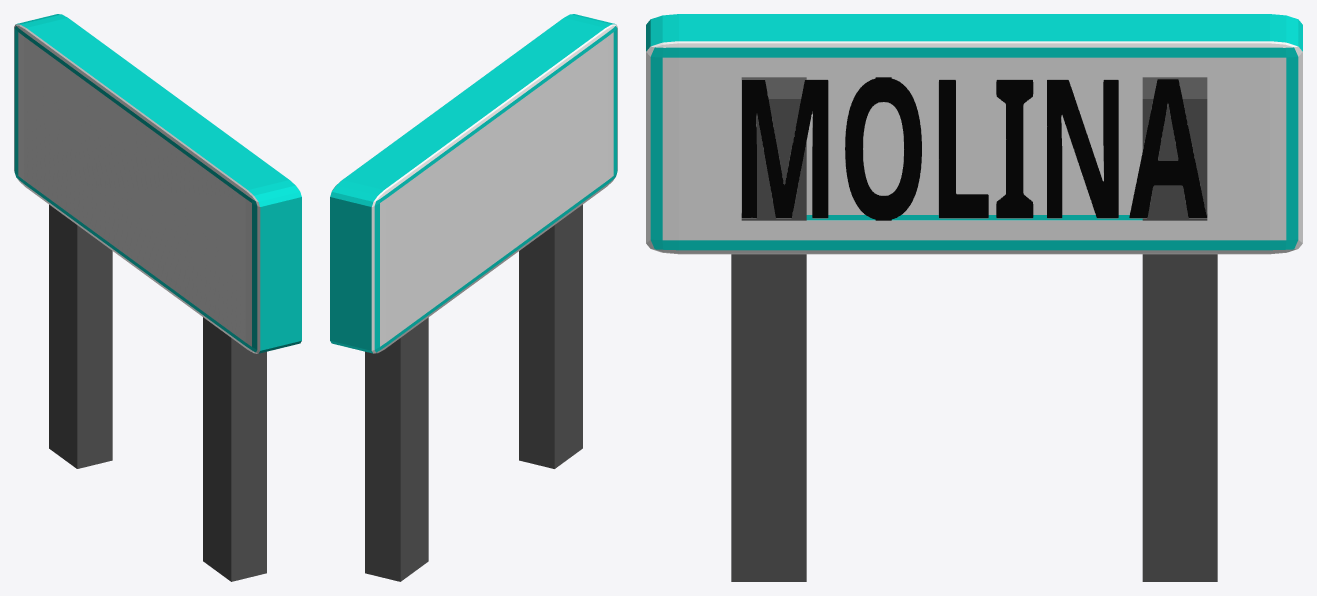
The model's file is CartelMolina.fbx.
The picture shows the model from 3 angles, left to right: view 1: azimuth 30°, elevation 25°; view 2: azimuth 150°, elevation 25°; view 3: azimuth 270°, elevation 25°; orthographic projection. The views are drawn at different scales.
Parts seen in each view (by area): view 1: Cube; view 2: Cube; view 3: Cube.
Part boxes in pixels (x1,y1,x2,y2): Cube: (14, 14, 301, 581); Cube: (330, 14, 617, 581); Cube: (646, 14, 1302, 581).
Bounding box in the file's own units: 26.8 × 225 × 246.
